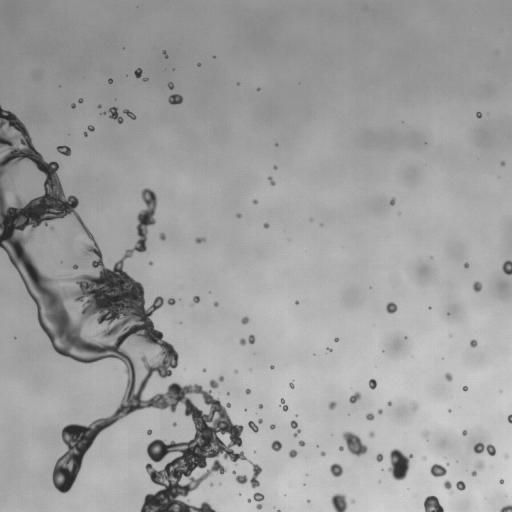droplet: (387, 448, 413, 480), (342, 431, 367, 456), (424, 495, 443, 511), (331, 493, 347, 511), (430, 463, 446, 477), (329, 463, 343, 477), (253, 492, 264, 509), (209, 376, 223, 389), (239, 334, 255, 345), (349, 391, 361, 403), (168, 94, 182, 104), (502, 260, 511, 275), (57, 146, 71, 155), (386, 302, 397, 313), (472, 281, 482, 292), (248, 421, 258, 432), (271, 440, 281, 451), (279, 399, 288, 411), (368, 378, 377, 389), (456, 480, 465, 490), (444, 480, 452, 491), (499, 504, 511, 511), (288, 449, 297, 458), (134, 68, 142, 78), (191, 296, 199, 305), (444, 372, 452, 381), (328, 401, 336, 409), (376, 453, 383, 462), (195, 237, 205, 243), (241, 317, 249, 324), (470, 339, 477, 347), (366, 413, 374, 420), (168, 298, 175, 305), (422, 430, 428, 438), (87, 125, 94, 131), (159, 233, 165, 240), (390, 197, 395, 205), (411, 403, 417, 409), (368, 431, 374, 437), (298, 440, 304, 446), (162, 50, 167, 57), (168, 82, 173, 89), (476, 112, 481, 118), (464, 262, 469, 268), (73, 264, 79, 269), (289, 382, 294, 388), (245, 389, 251, 394), (108, 78, 113, 83), (78, 98, 83, 103), (252, 199, 257, 204), (263, 223, 268, 228), (462, 386, 467, 391), (270, 424, 275, 429), (462, 430, 467, 435), (320, 451, 325, 456), (71, 103, 75, 108), (236, 213, 241, 217), (378, 409, 382, 414), (258, 418, 262, 423), (339, 446, 343, 451), (500, 161, 504, 165), (273, 165, 277, 169), (214, 302, 218, 306), (327, 347, 331, 351), (270, 365, 274, 369), (387, 401, 391, 405), (258, 404, 262, 408), (172, 422, 176, 426), (147, 430, 151, 434), (499, 479, 503, 483), (143, 78, 147, 81), (84, 132, 87, 136), (50, 226, 53, 230), (149, 261, 152, 265), (334, 338, 338, 341), (202, 369, 206, 372), (422, 456, 426, 459), (247, 499, 251, 502), (350, 500, 354, 503), (197, 63, 200, 66), (98, 105, 101, 108), (295, 301, 298, 304), (505, 454, 508, 457), (307, 499, 310, 502), (257, 88, 260, 90), (234, 370, 237, 372), (446, 463, 449, 465), (232, 471, 235, 473), (275, 143, 277, 145), (310, 218, 312, 220), (210, 483, 212, 485)
ligament: (0, 105, 261, 511), (473, 442, 495, 456), (109, 107, 123, 123), (471, 460, 484, 476), (290, 420, 300, 437), (123, 109, 135, 119), (268, 176, 275, 185), (507, 414, 511, 423), (277, 510, 280, 511)
